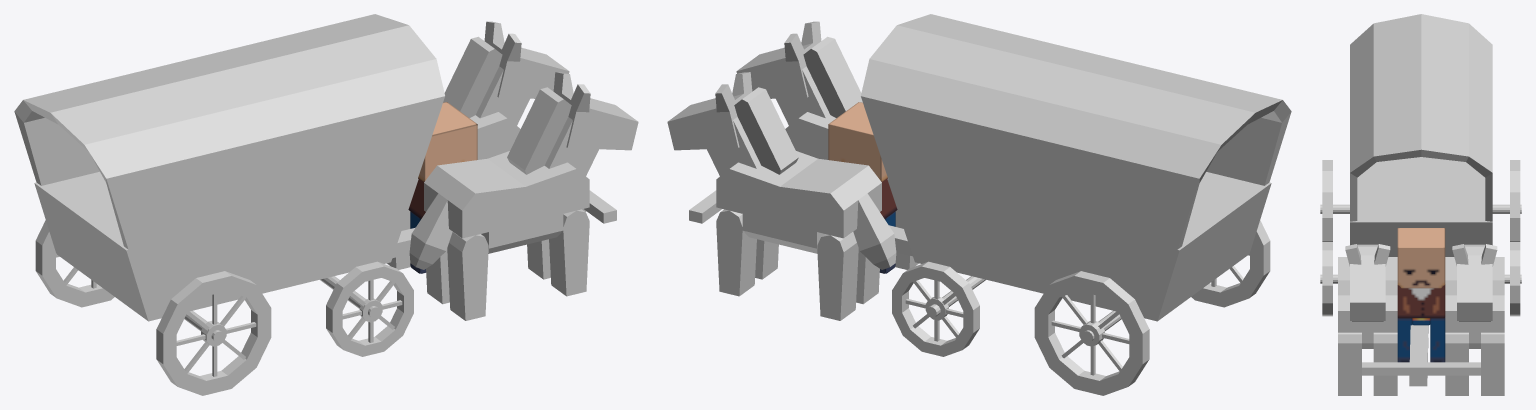
The model's file is settlerWagon.dae.
The picture shows the model from 3 angles, left to right: view 1: azimuth 30°, elevation 25°; view 2: azimuth 150°, elevation 25°; view 3: azimuth 270°, elevation 25°; orthographic projection. The views are drawn at different scales.
Visible parts, largest first — view 1: Canopy, body, torso (×2), head (×3), wheelbig (×2), neck (×2), wheel, leg-back-right, leg-front-right, tail, leg-back-left, leg-front-left (+1 smaller); view 2: Canopy, body, torso (×2), head (×3), wheelbig (×2), neck (×2), wheel, leg-back-left, leg-front-left, tail, leg-back-right, leg-front-right (+1 smaller); view 3: Canopy, body, head (×3), torso (×2), leg-front-left (×2), leg-front-right (×2), wheelbig (×2), Body, cuboid, wheel (×2), Lleg (×2), tongue (+2 smaller).
Part boxes in pixels (bbox=[...]): Canopy: bbox=[14, 14, 444, 249]; body: bbox=[34, 171, 418, 321]; torso (×2): bbox=[424, 112, 589, 253]; head (×3): bbox=[418, 21, 638, 181]; wheelbig (×2): bbox=[35, 220, 271, 395]; neck (×2): bbox=[443, 36, 598, 175]; wheel: bbox=[326, 261, 413, 356]; leg-back-right: bbox=[447, 232, 488, 320]; leg-front-right: bbox=[549, 209, 589, 296]; tail: bbox=[409, 193, 452, 269]; leg-back-left: bbox=[426, 248, 449, 304]; leg-front-left: bbox=[527, 239, 550, 279]; Canopy: bbox=[861, 14, 1291, 249]; body: bbox=[887, 172, 1271, 321]; torso (×2): bbox=[716, 112, 881, 253]; head (×3): bbox=[667, 21, 887, 181]; wheelbig (×2): bbox=[1034, 220, 1270, 395]; neck (×2): bbox=[707, 36, 862, 175]; wheel: bbox=[892, 261, 979, 356]; leg-back-left: bbox=[817, 232, 858, 320]; leg-front-left: bbox=[716, 209, 756, 296]; tail: bbox=[853, 193, 896, 269]; leg-back-right: bbox=[856, 248, 879, 304]; leg-front-right: bbox=[755, 239, 778, 279]; Canopy: bbox=[1350, 14, 1492, 221]; body: bbox=[1350, 157, 1492, 256]; head (×3): bbox=[1345, 228, 1497, 320]; torso (×2): bbox=[1338, 257, 1504, 348]; leg-front-left (×2): bbox=[1373, 332, 1504, 395]; leg-front-right (×2): bbox=[1338, 332, 1468, 395]; wheelbig (×2): bbox=[1322, 160, 1520, 241]; Body: bbox=[1397, 284, 1445, 325]; cuboid: bbox=[1362, 362, 1480, 375]; wheel (×2): bbox=[1322, 242, 1520, 316]; Lleg (×2): bbox=[1397, 318, 1445, 362]; tongue: bbox=[1409, 325, 1428, 386].
Bounding box in the file's own units: 10.2 × 4.64 × 4.23.
